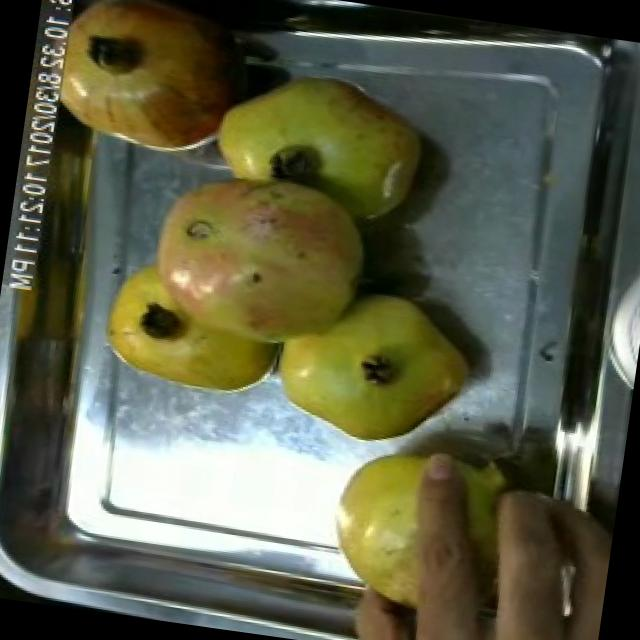fruit: (121, 135, 396, 377), (307, 427, 536, 640), (252, 265, 491, 462), (29, 0, 275, 172)
